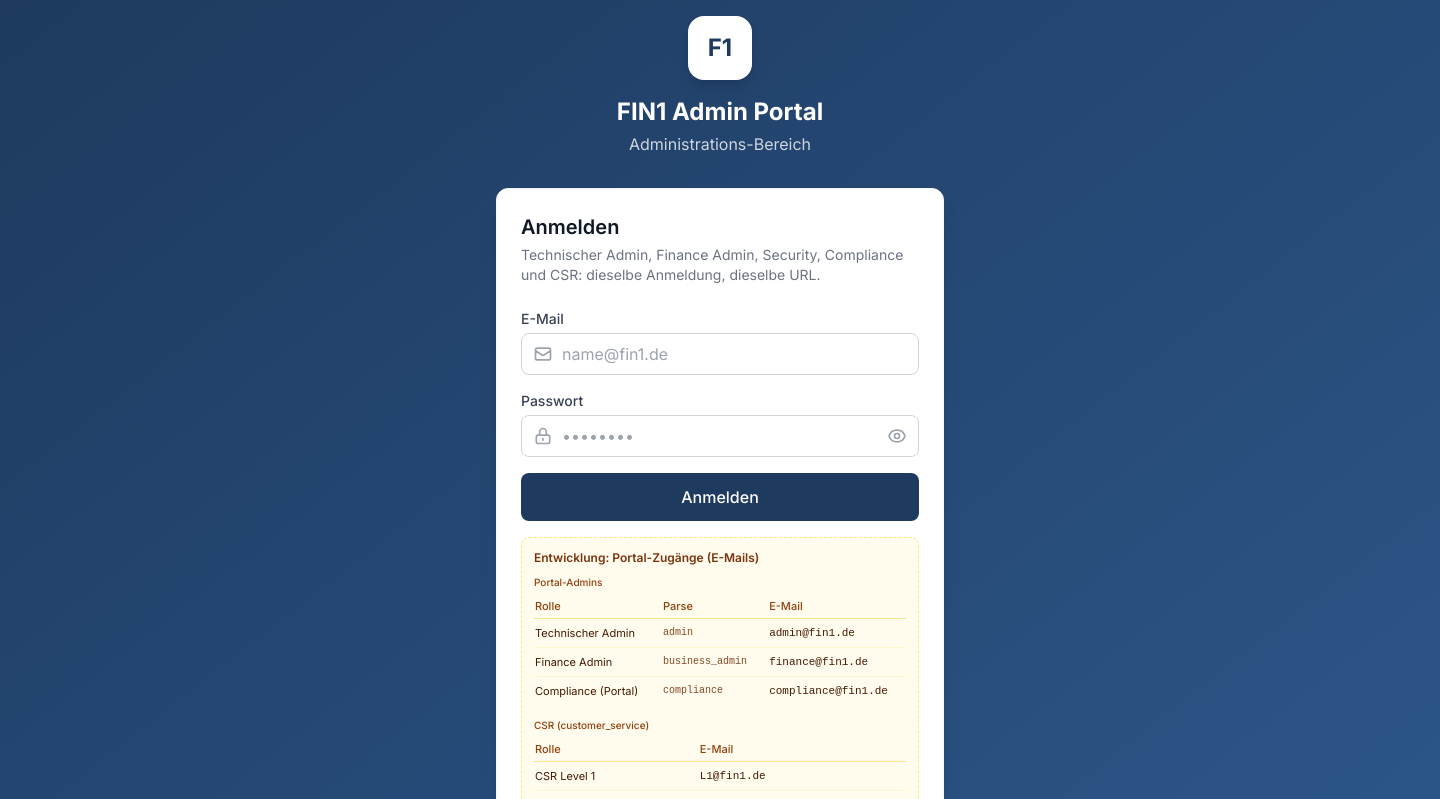
Test case: LoginPage › displays error message on login failure
Type "wrong@test.com" into the field labelled "E-Mail". click: (720, 354)
box: [521, 333, 919, 375]
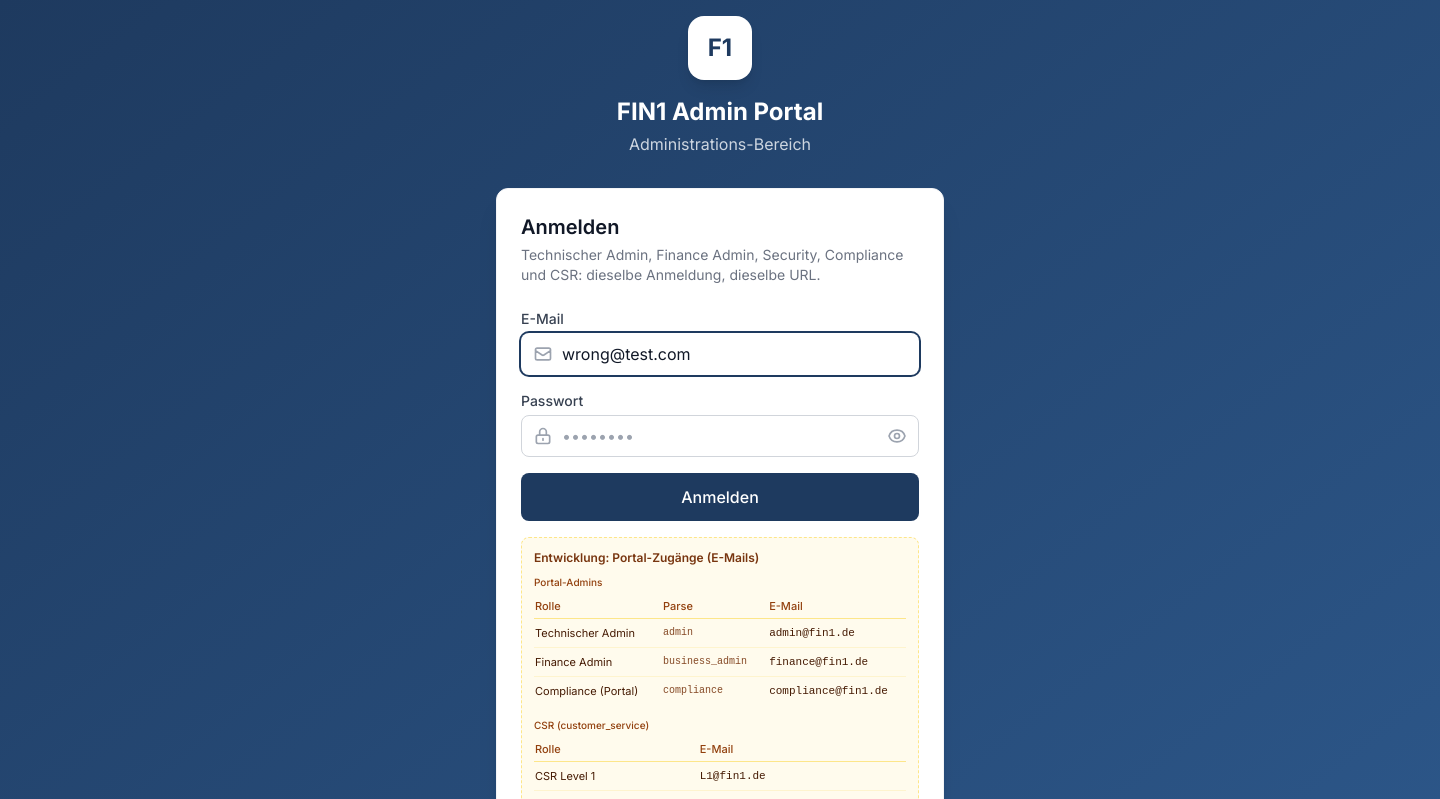
Type "wrongpass" into the password field labelled "Passwort". click: (720, 436)
box: [521, 415, 919, 457]
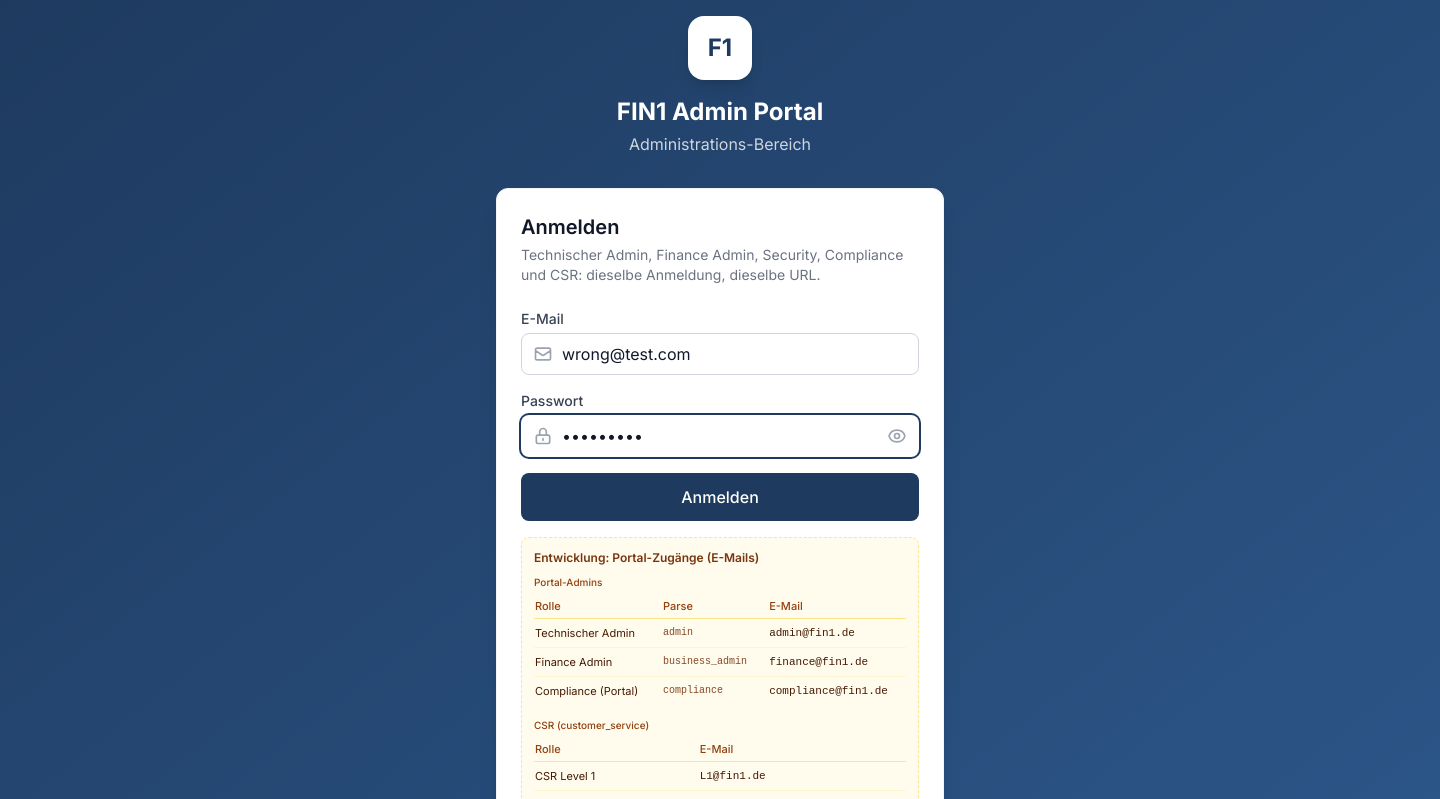
Click the button "Anmelden". click: click(720, 497)
box: [521, 473, 919, 521]
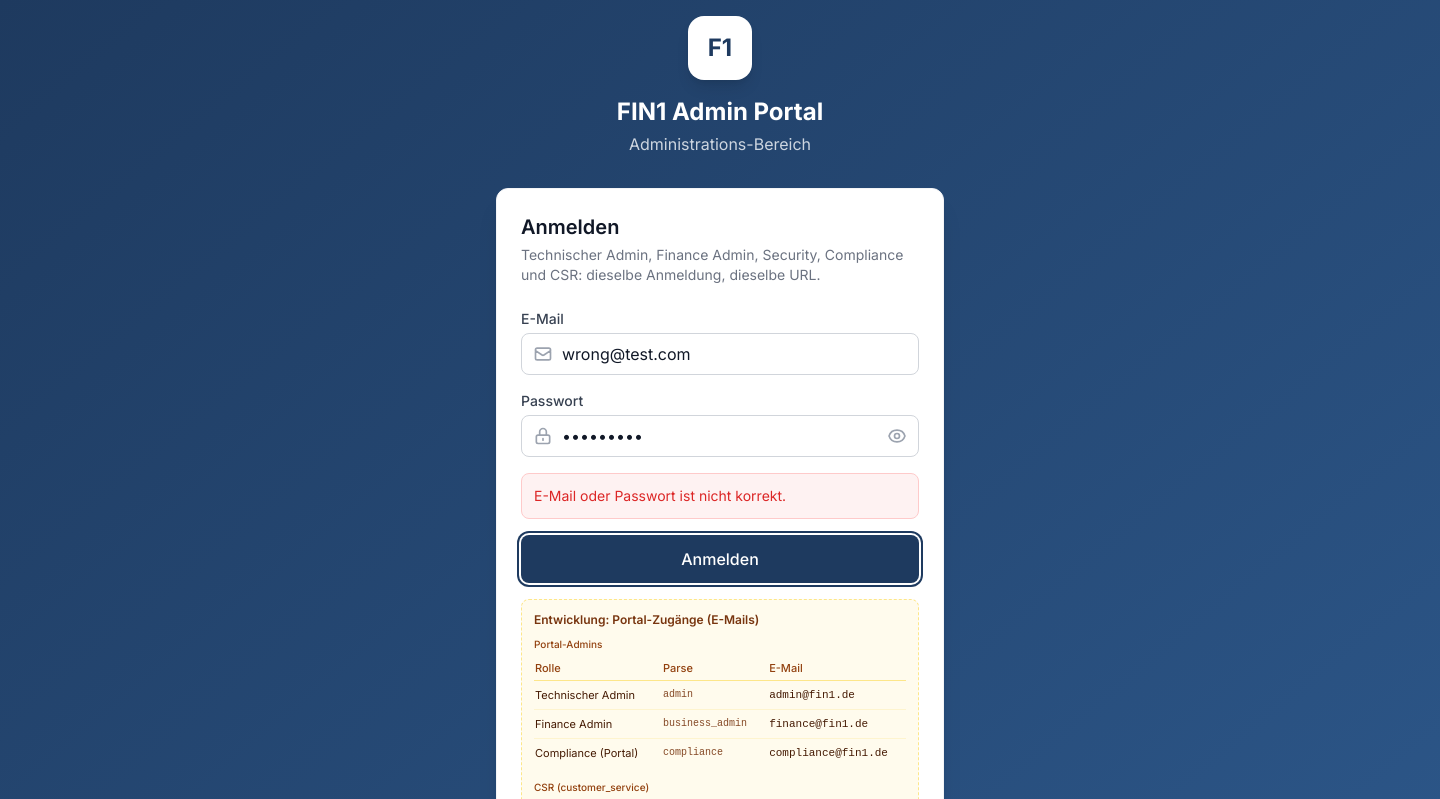
expect the text "E-Mail oder Passwort ist nicht korrekt." is shown: met, box [534, 487, 786, 504]
